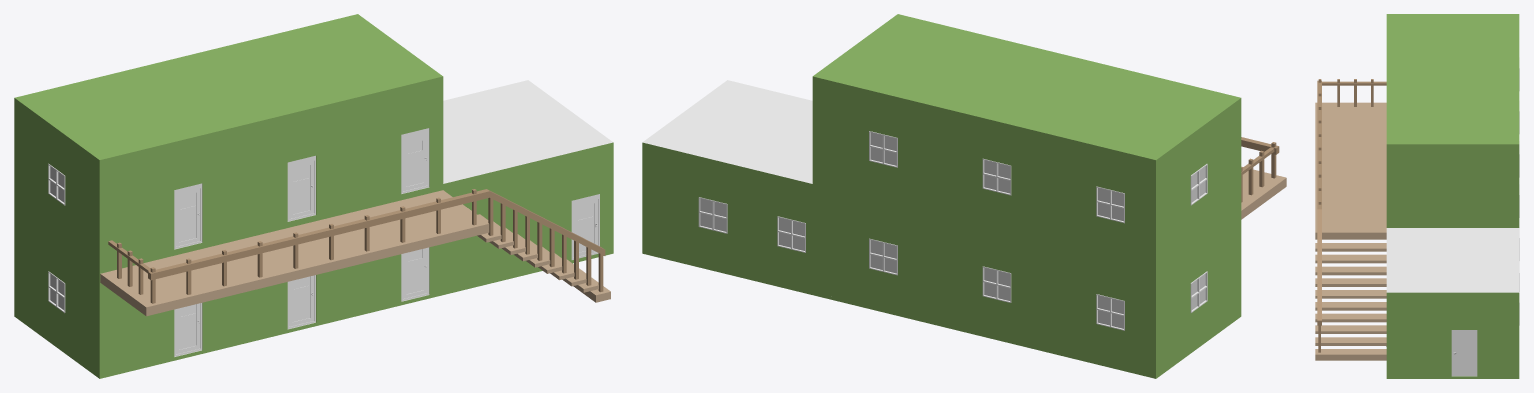
The model's file is Hotel_1.fbx.
The picture shows the model from 3 angles, left to right: view 1: azimuth 30°, elevation 25°; view 2: azimuth 150°, elevation 25°; view 3: azimuth 270°, elevation 25°; orthographic projection. The views are drawn at different scales.
Parts seen in each view (by area): view 1: Hotel_1_Body, Hotel_1_Door.009, Hotel_1_Door.005, Hotel_1_Door.006, Hotel_1_Door.001, Hotel_1_Door.002, Hotel_1_Door.003, Hotel_1_Door.004; view 2: Hotel_1_Body, Hotel_1_Window.003, Hotel_1_Window.010, Hotel_1_Window.001, Hotel_1_Window.009, Hotel_1_Window.007, Hotel_1_Window.002, Hotel_1_Window.008, Hotel_1_Window.011; view 3: Hotel_1_Body, Hotel_1_Door.
Part boxes in pixels (x1,y1,x2,y2): Hotel_1_Body: (14,14,613,378); Hotel_1_Door.009: (174,183,202,249); Hotel_1_Door.005: (401,128,429,193); Hotel_1_Door.006: (287,155,315,221); Hotel_1_Door.001: (571,194,599,259); Hotel_1_Door.002: (401,247,429,301); Hotel_1_Door.003: (287,275,315,328); Hotel_1_Door.004: (174,303,202,356); Hotel_1_Body: (642,14,1286,378); Hotel_1_Window.003: (700,198,726,231); Hotel_1_Window.010: (984,160,1010,193); Hotel_1_Window.001: (870,240,896,273); Hotel_1_Window.009: (870,132,896,165); Hotel_1_Window.007: (984,268,1010,300); Hotel_1_Window.002: (779,217,804,250); Hotel_1_Window.008: (1098,295,1123,328); Hotel_1_Window.011: (1098,188,1123,221); Hotel_1_Body: (1315,14,1519,378); Hotel_1_Door: (1451,330,1477,375).
Bounding box in the file's own units: 1812 × 736 × 803.
